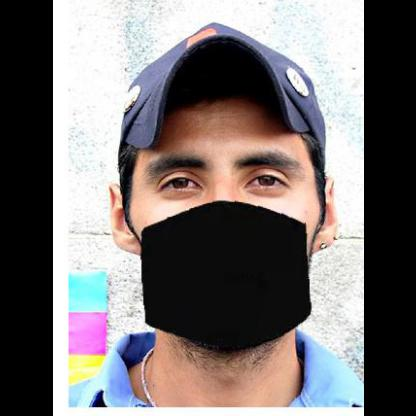Fabric/Cloth Mask: (137, 140, 309, 330)
